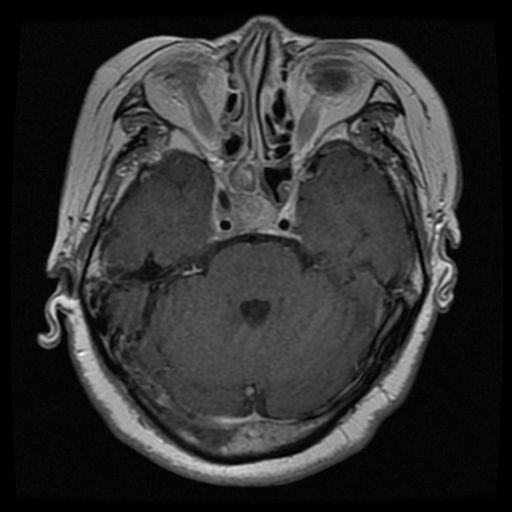pituitary: (230, 192, 277, 235)
